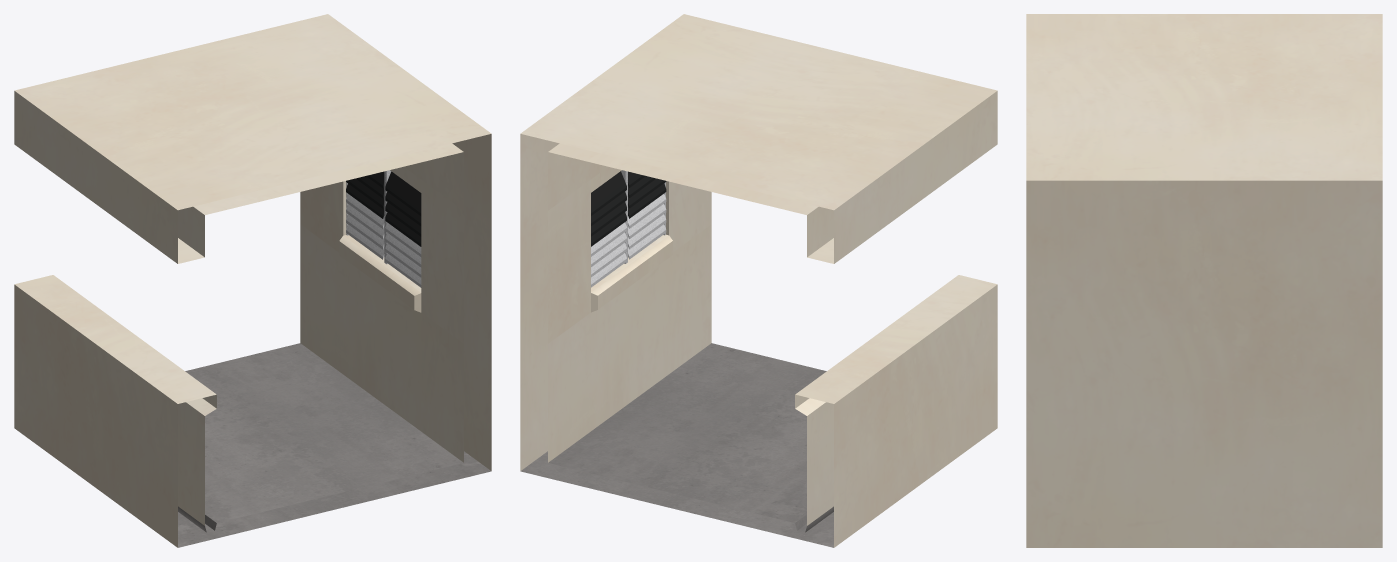
The model's file is LucasTan_ShutWindowPc.fbx.
3 views of the same model, side by side, from view 1: azimuth 30°, elevation 25°; view 2: azimuth 150°, elevation 25°; view 3: azimuth 270°, elevation 25° (orthographic). The views are drawn at different scales.
Parts seen in each view (by area): view 1: window_new8; view 2: window_new8; view 3: window_new8.
Part boxes in pixels (<box>): window_new8: <box>14,14,491,547</box>; window_new8: <box>520,14,997,547</box>; window_new8: <box>1026,14,1382,547</box>.
Bounding box in the file's own units: 2.89 × 2.97 × 2.61.
